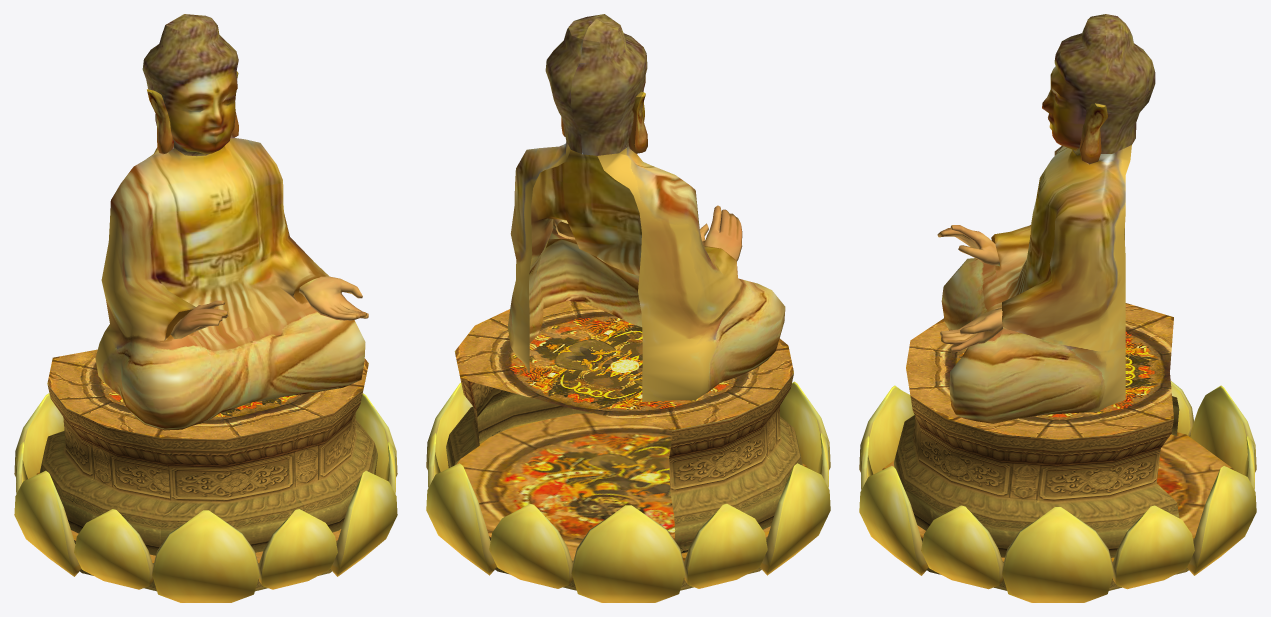
The model's file is Statue_1.FBX.
3 views of the same model, side by side, from view 1: azimuth 30°, elevation 25°; view 2: azimuth 150°, elevation 25°; view 3: azimuth 270°, elevation 25° (orthographic). The views are drawn at different scales.
Parts seen in each view (by area): view 1: Statue_1; view 2: Statue_1; view 3: Statue_1.
Boxes of the visible parts, box(x1,y1,x2,y2) form: Statue_1: box(14, 14, 397, 602); Statue_1: box(426, 14, 830, 602); Statue_1: box(859, 14, 1256, 602).
Size of the model in its own units: 56.61 by 81 by 56.52.
